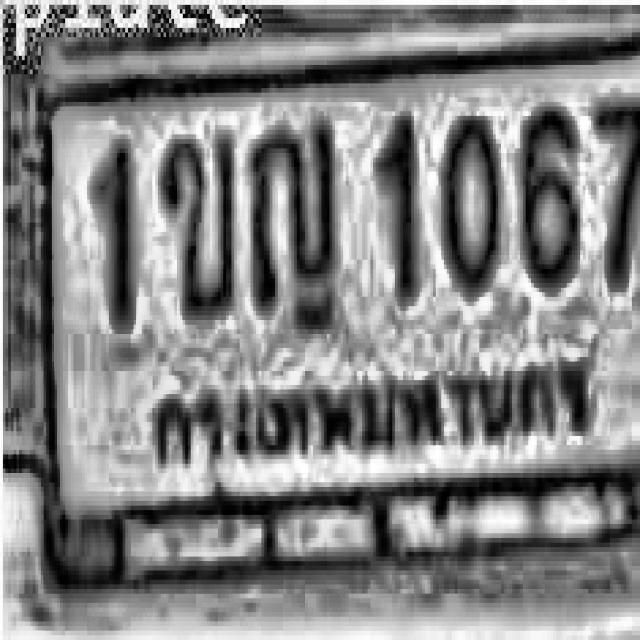license-plate: (34, 29, 640, 598)
